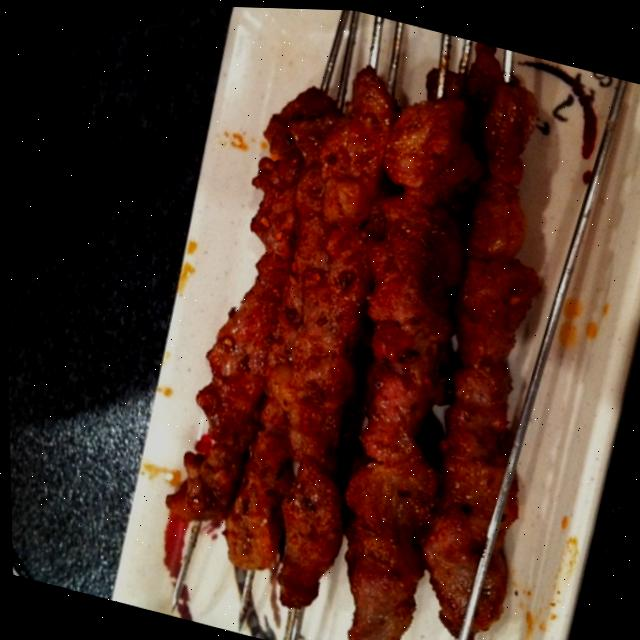烧串烤肉: (85, 2, 640, 640)
